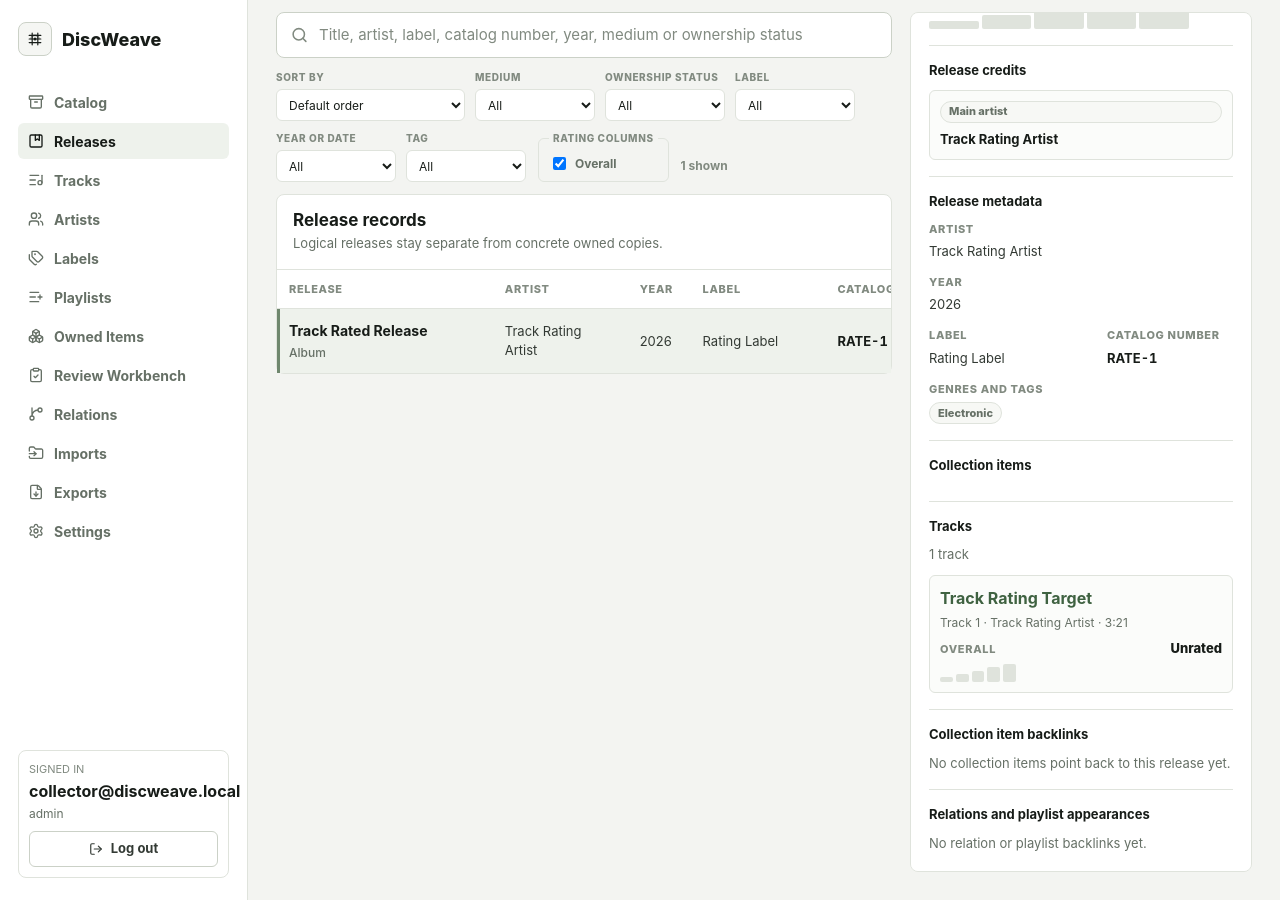
Test: App release track ratings › rates tracks from the release detail tracklist
(page scrolled)
Click the button named "5" below "Unrated" at {"x": 1010, "y": 673}, box left=1003, top=664, right=1016, bottom=682
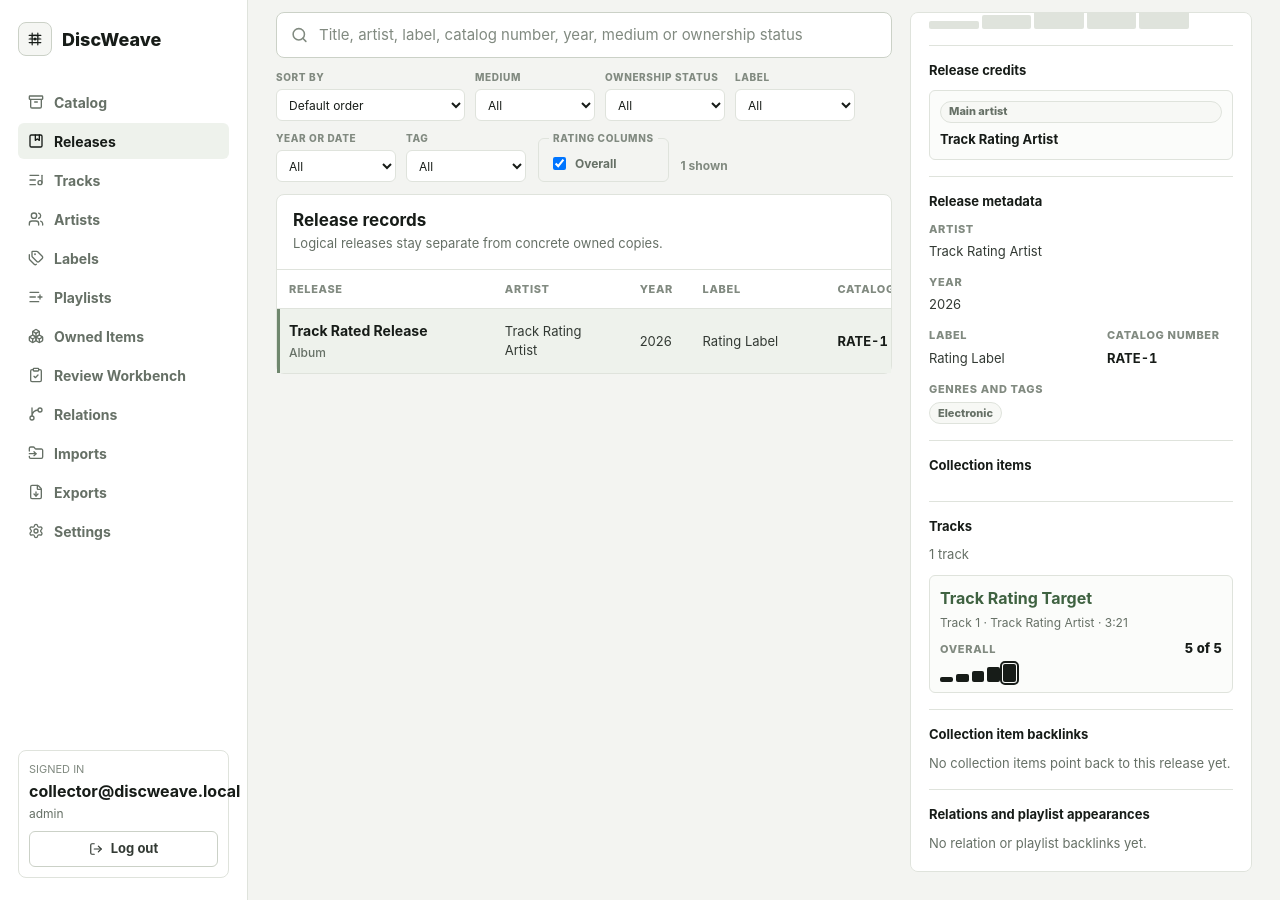
expect the text "5 of 5" is shown: met, box left=1185, top=639, right=1222, bottom=658
Click the button named "5" below "5 of 5" at {"x": 1010, "y": 673}, box left=1003, top=664, right=1016, bottom=682
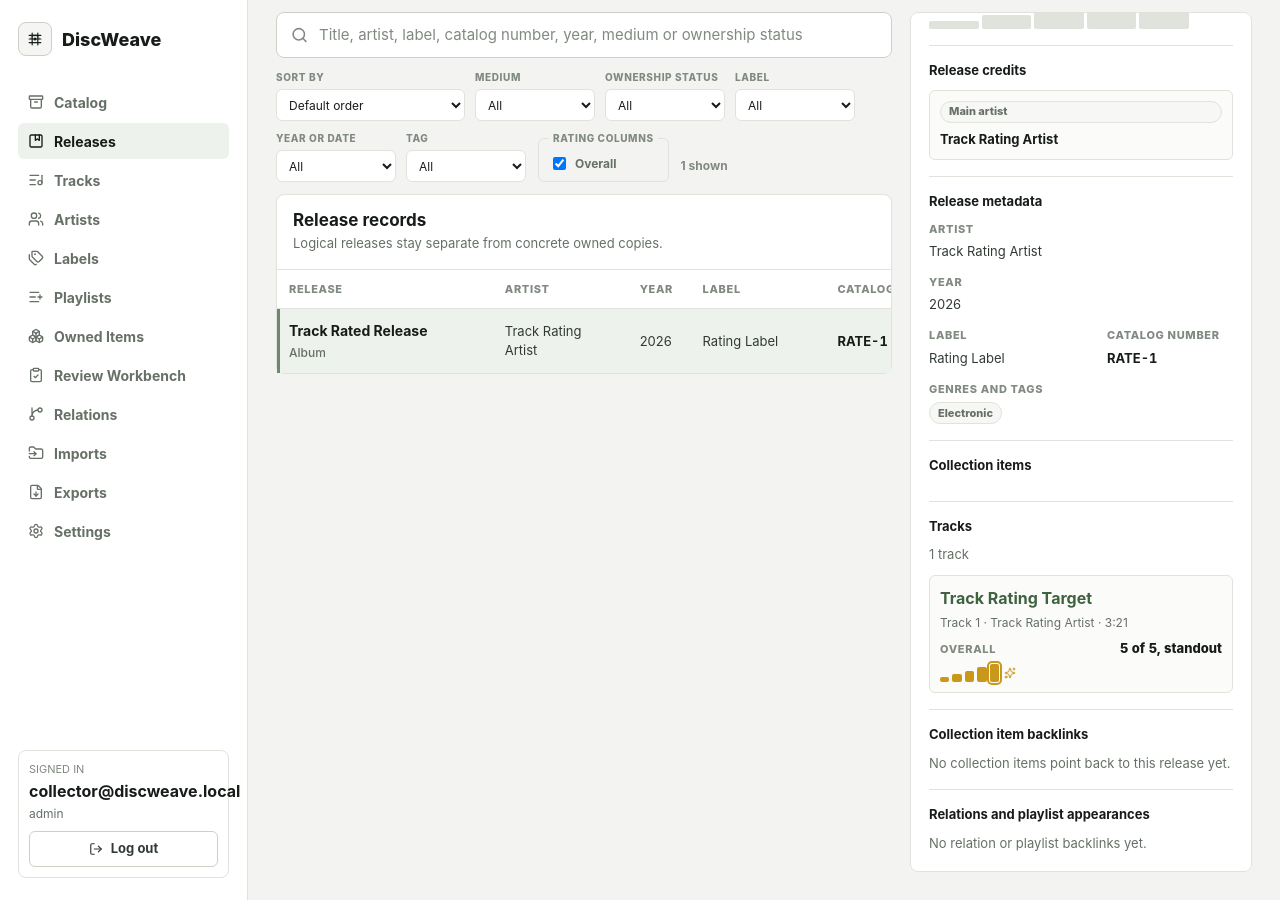
expect the text "5 of 5, standout" is shown: met, box left=1120, top=639, right=1222, bottom=658
